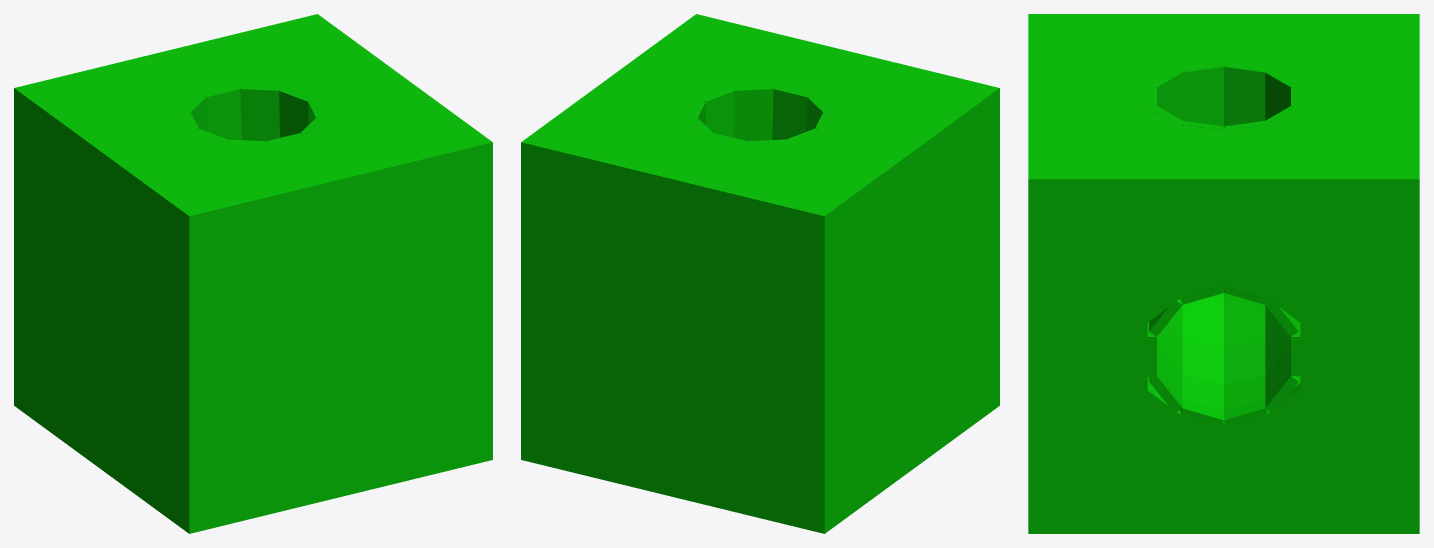
The model's file is UCXKugelbahn.32.fbx.
The picture shows the model from 3 angles, left to right: view 1: azimuth 30°, elevation 25°; view 2: azimuth 150°, elevation 25°; view 3: azimuth 270°, elevation 25°; orthographic projection. The views are drawn at different scales.
Parts seen in each view (by area): view 1: UCX_Kugelbahn.32_low; view 2: UCX_Kugelbahn.32_low; view 3: UCX_Kugelbahn.32_low.
Part boxes in pixels (bbox=[...]): UCX_Kugelbahn.32_low: bbox=[14, 14, 492, 533]; UCX_Kugelbahn.32_low: bbox=[521, 14, 999, 533]; UCX_Kugelbahn.32_low: bbox=[1028, 14, 1419, 533].
Bounding box in the file's own units: 0.05 × 0.05 × 0.05.
